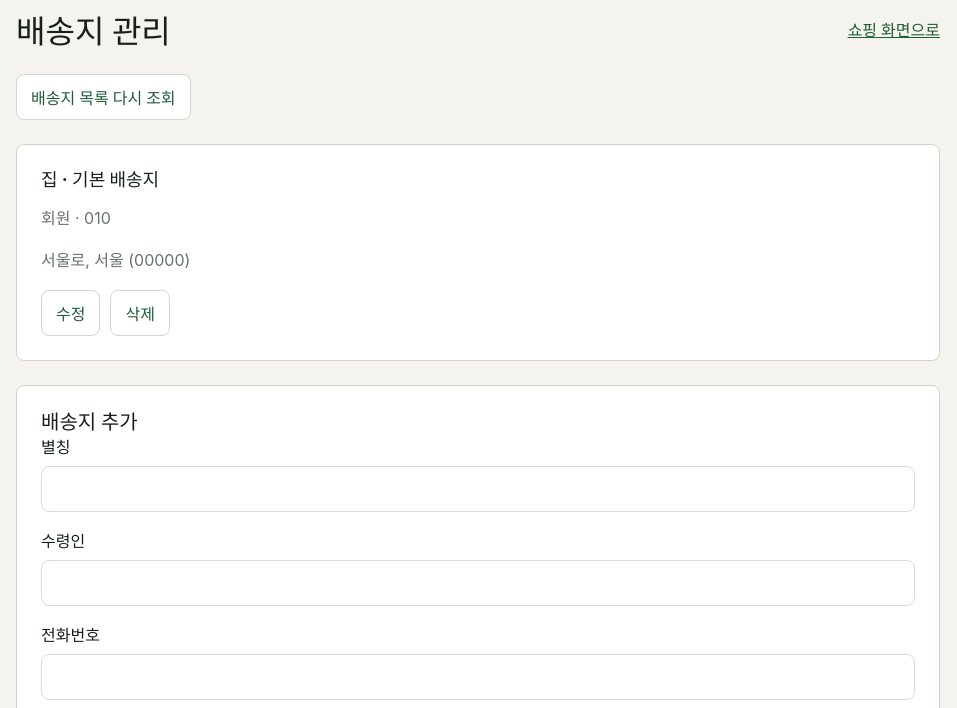
deletes the last address with the current book version
This screenshot has width=957, height=708.
Check: the heading "집 · 기본 배송지" is shown, box [41,169,159,190]
Click the button with aria-label "집 삭제".
click(140, 313)  # box [110,290,170,336]
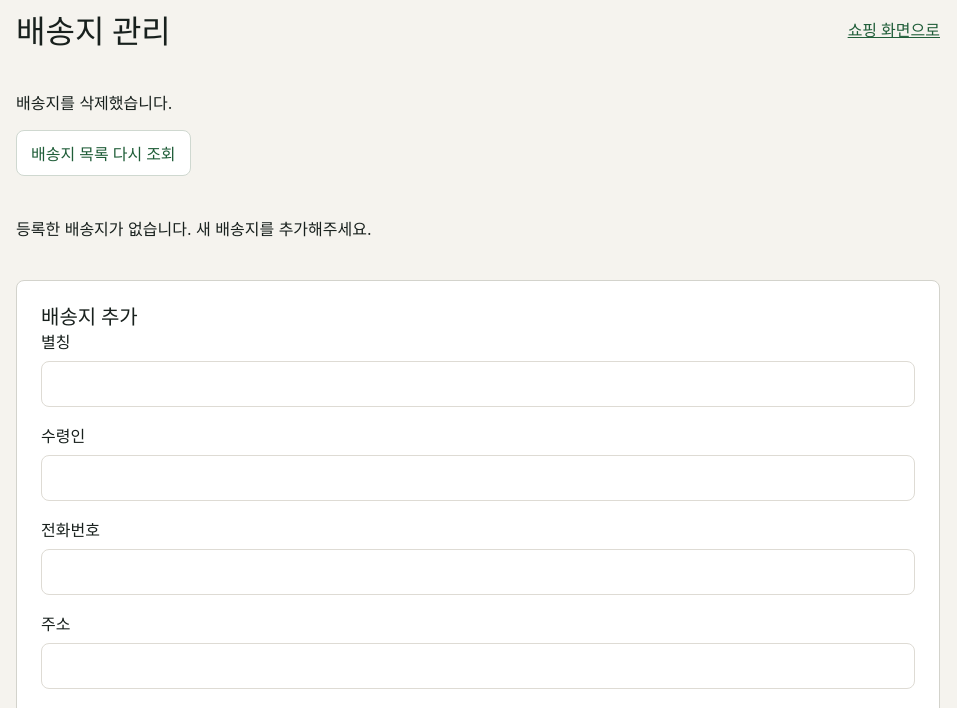
Check: the text "등록한 배송지가 없습니다. 새 배송지를 추가해주세요." is shown, box [16,219,372,239]
